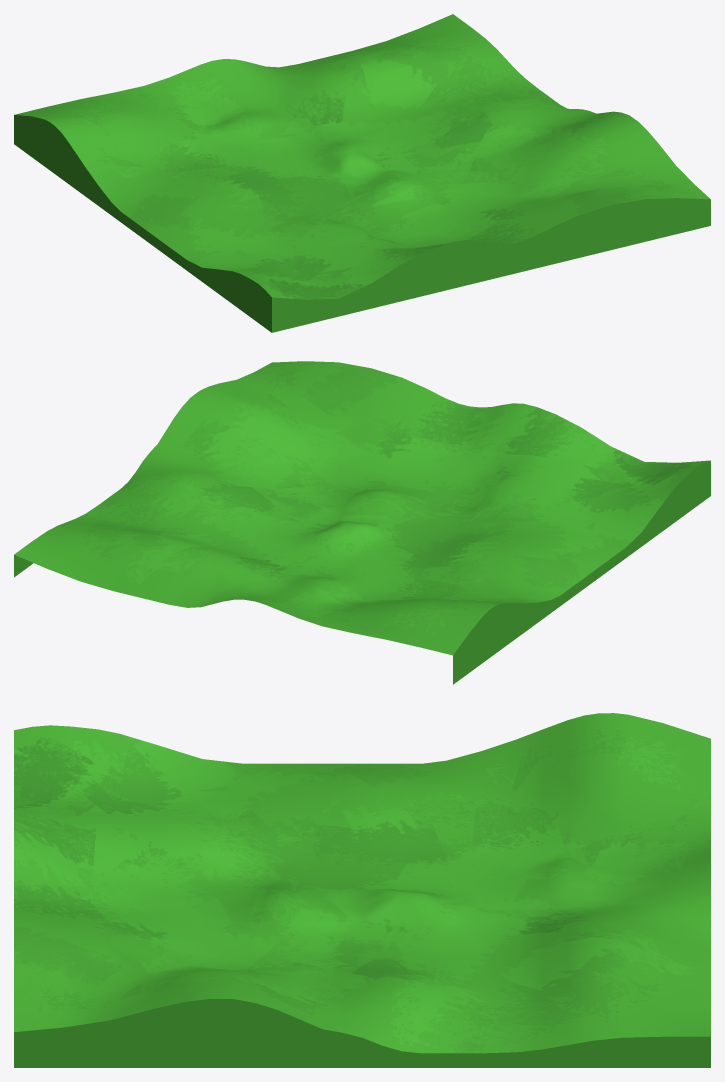
The model's file is dixing.FBX.
3 renders of one model, top to bottom at view 1: azimuth 30°, elevation 25°; view 2: azimuth 150°, elevation 25°; view 3: azimuth 270°, elevation 25°, orthographic. The views are drawn at different scales.
Parts seen in each view (by area): view 1: dixing; view 2: dixing; view 3: dixing.
Part boxes in pixels (x1,y1,x2,y2): dixing: [14, 14, 710, 332]; dixing: [14, 361, 710, 684]; dixing: [14, 713, 710, 1067].
Bounding box in the file's own units: 24582 × 2727 × 25006.
